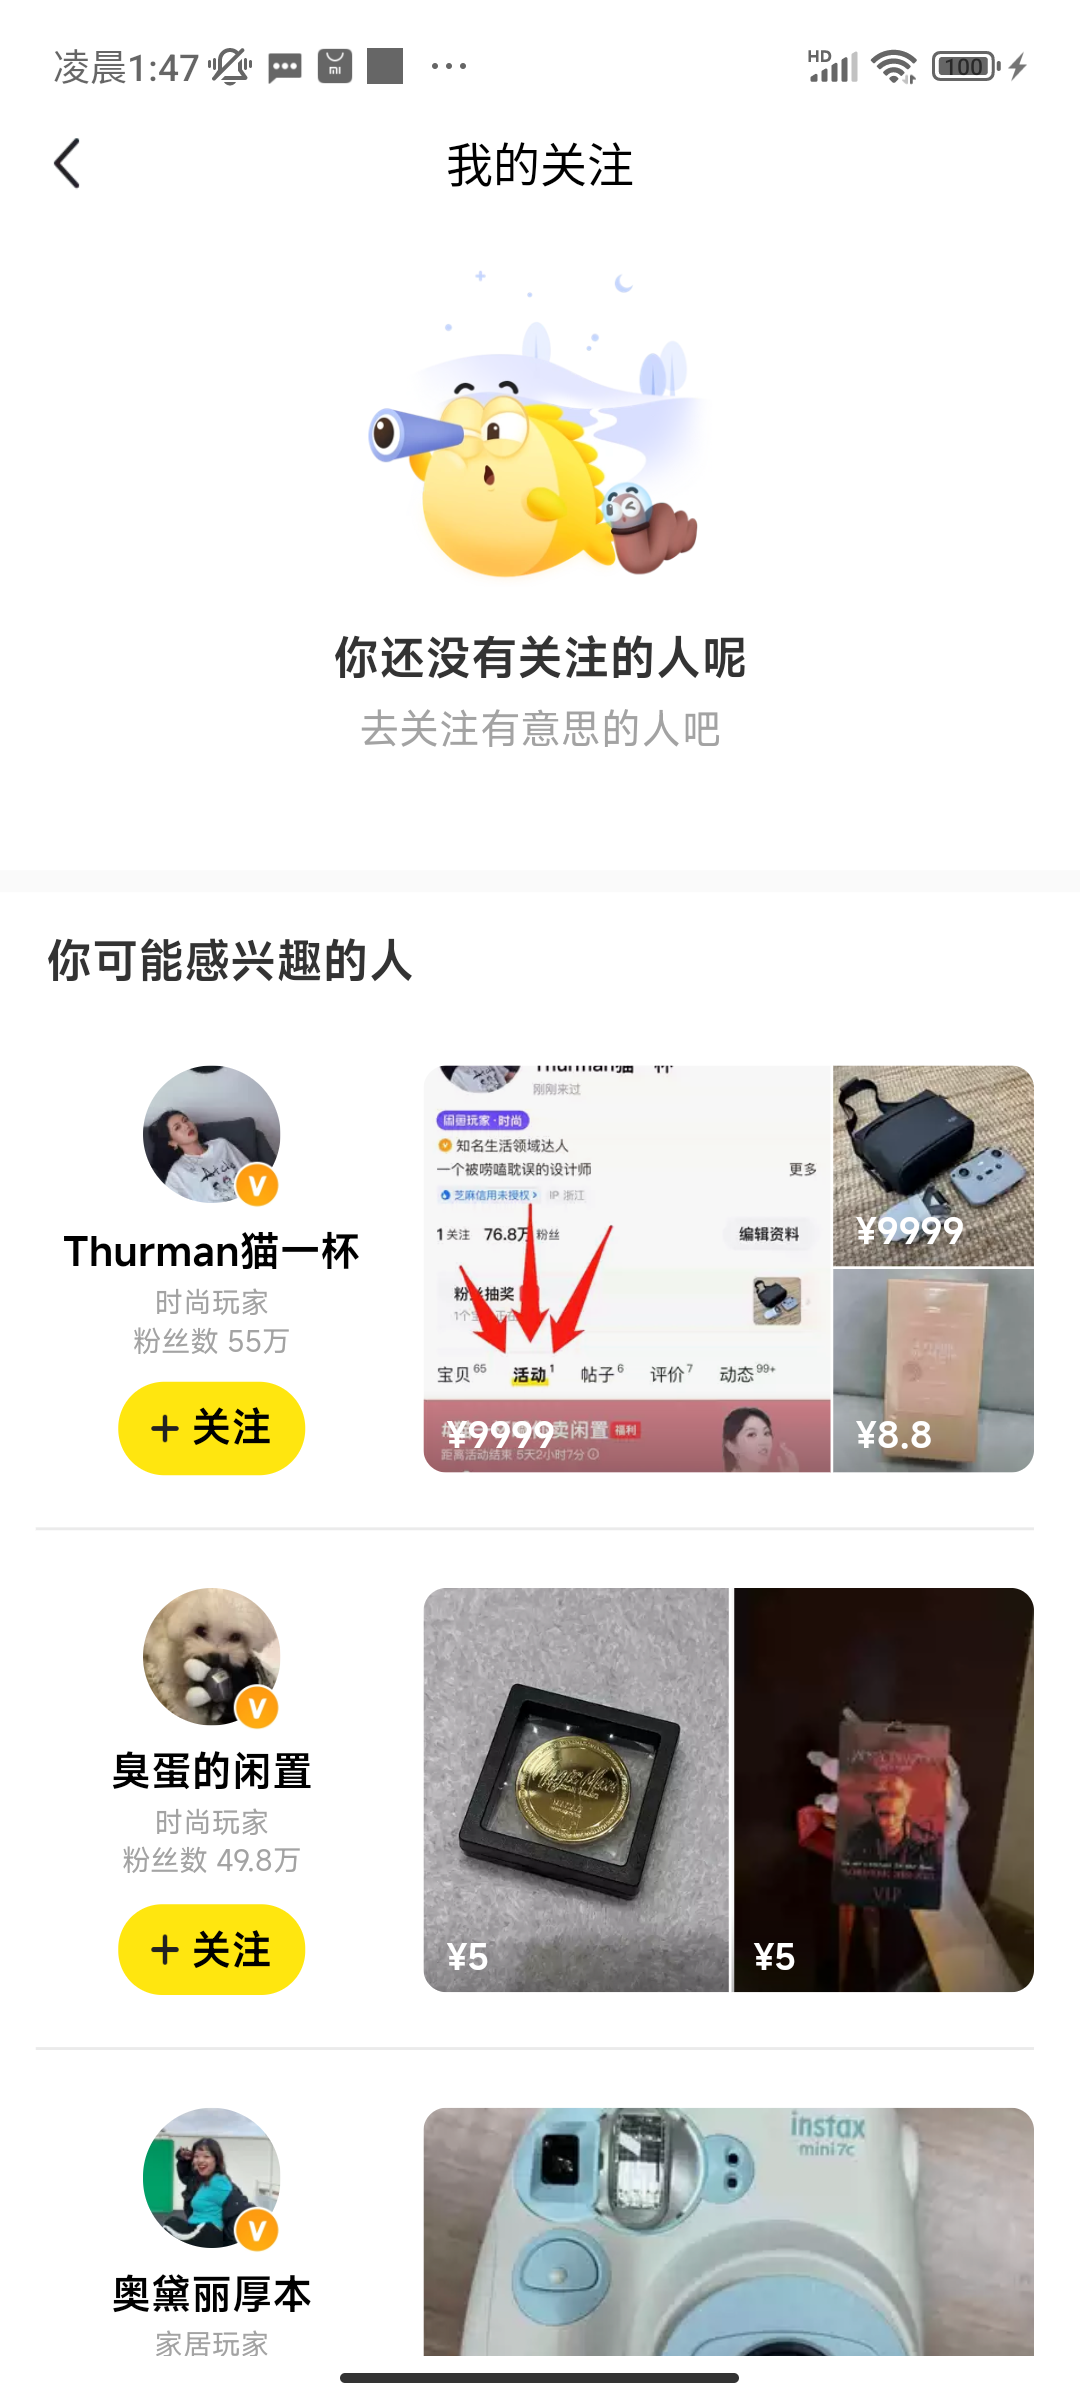ui_group: (31, 1009, 402, 1506), (23, 1554, 407, 2023)
